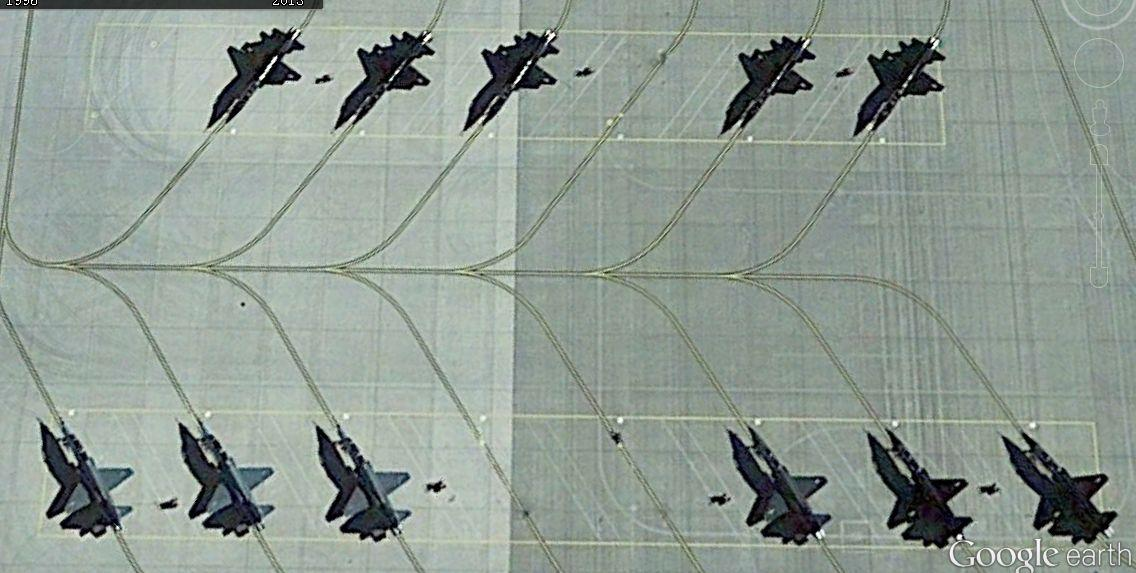plane: (1008, 422, 1123, 549), (874, 417, 977, 546), (177, 409, 280, 533), (736, 419, 834, 547), (318, 414, 414, 541), (47, 408, 141, 537), (205, 23, 311, 133), (846, 35, 951, 146), (329, 27, 435, 129), (721, 33, 819, 141), (463, 27, 560, 134)
